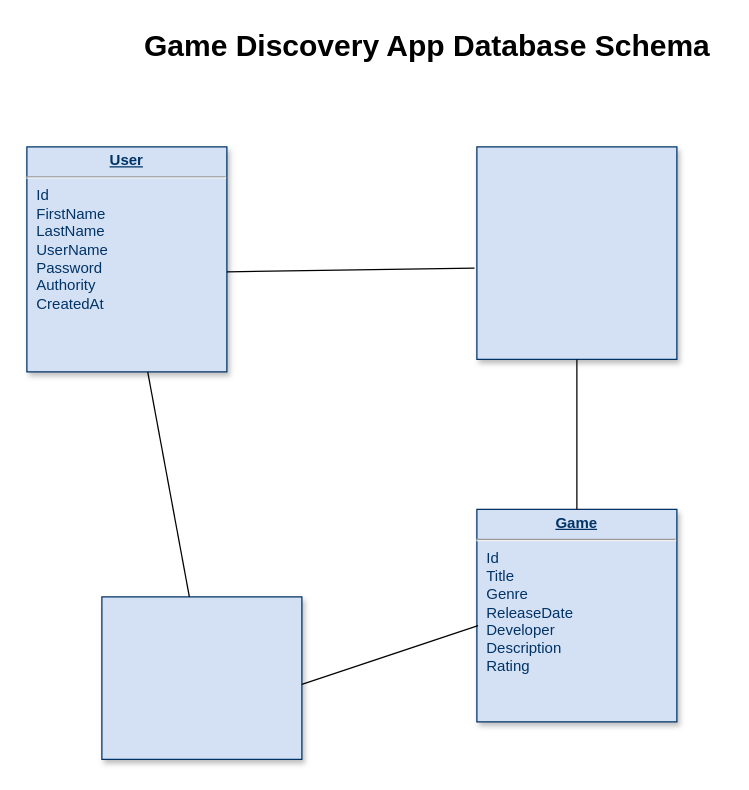
This 749x790 diagram has some shape labels left out. Each missing label, with the centre of its shape:
Review Id Title Username GameId DatePosted Comment: point (577, 254)
Wishlist Id GameId Username DateAdded: point (202, 679)
